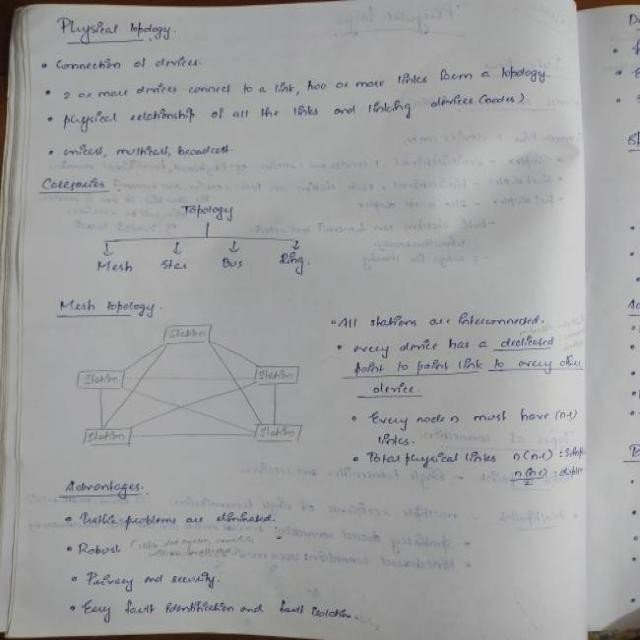Figure Detection - v3 Dataset Version2: (64, 321, 321, 460), (84, 196, 322, 290)
